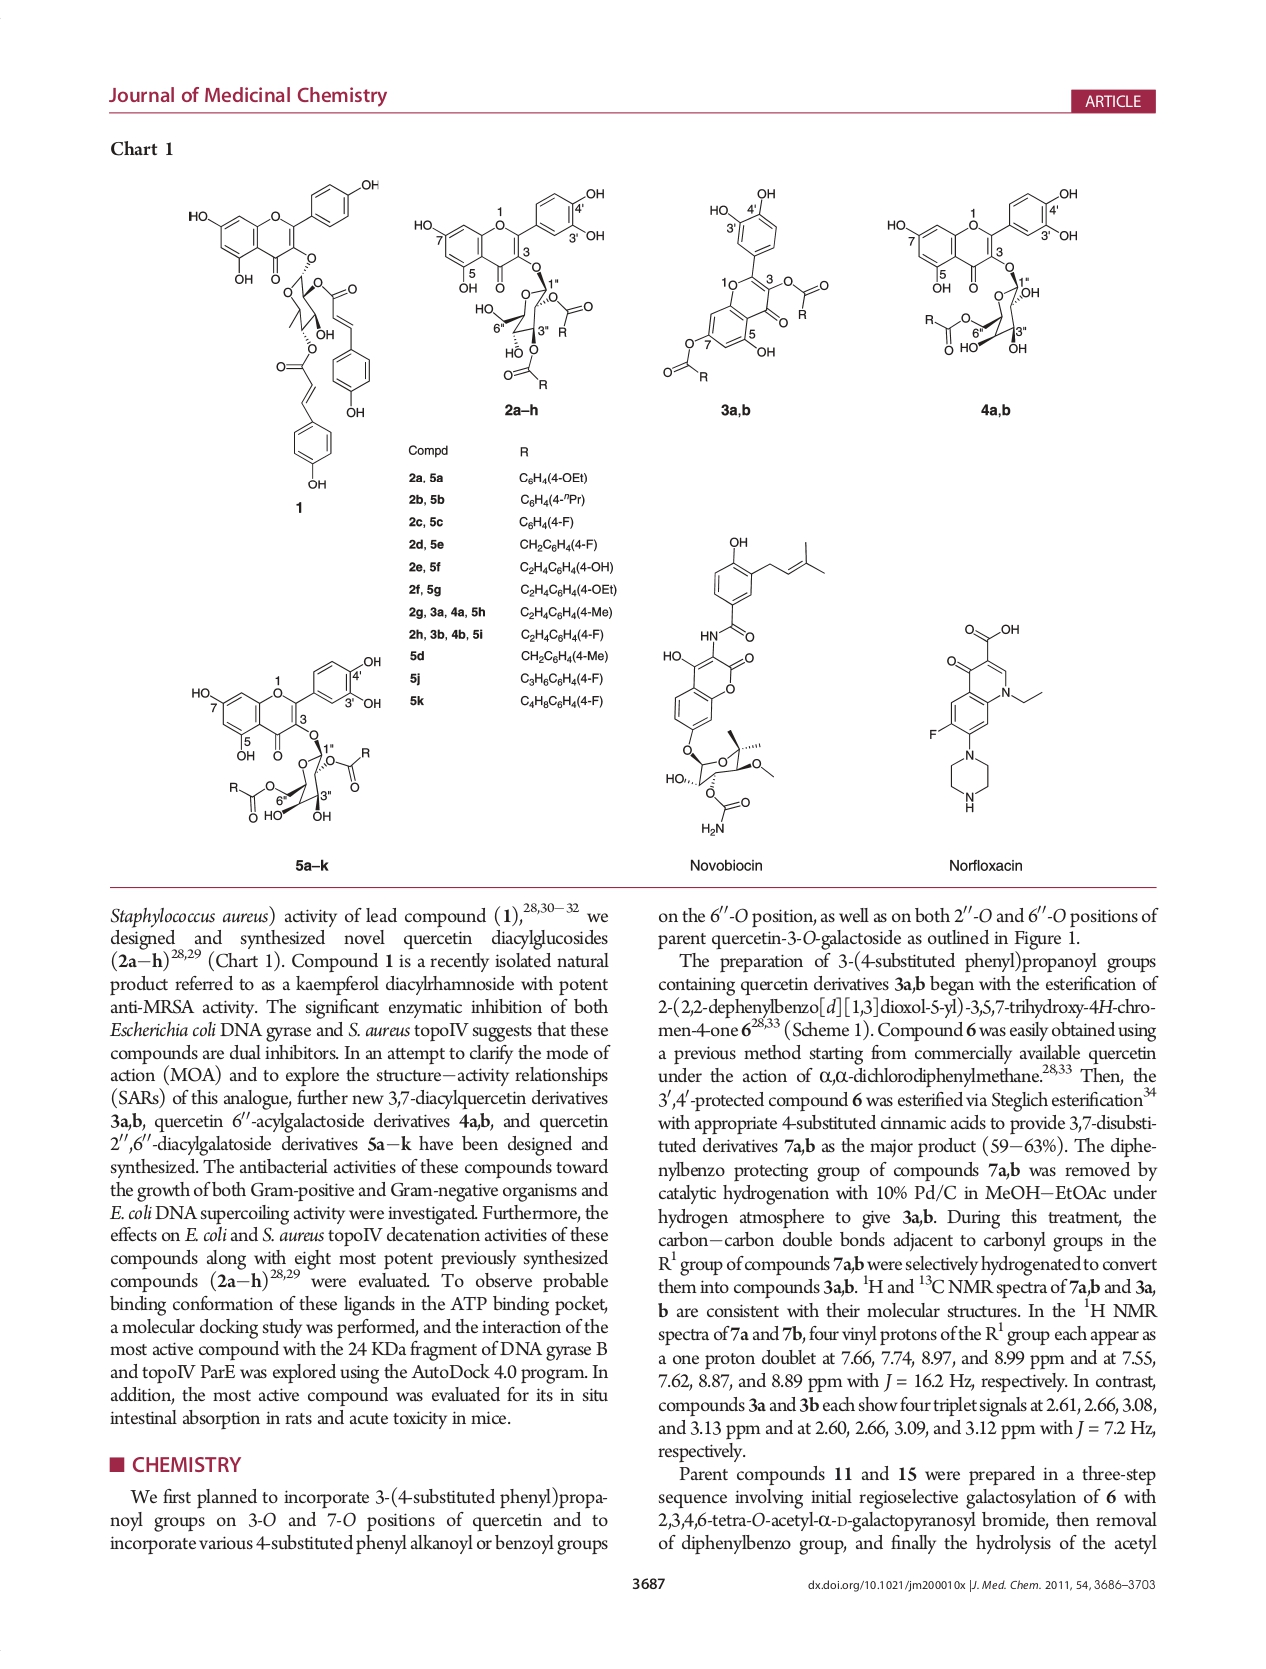exist_molecular: (184, 176, 382, 489), (654, 533, 830, 836), (411, 186, 610, 392), (188, 650, 386, 829), (657, 186, 832, 383), (883, 188, 1082, 356), (922, 620, 1045, 817)
